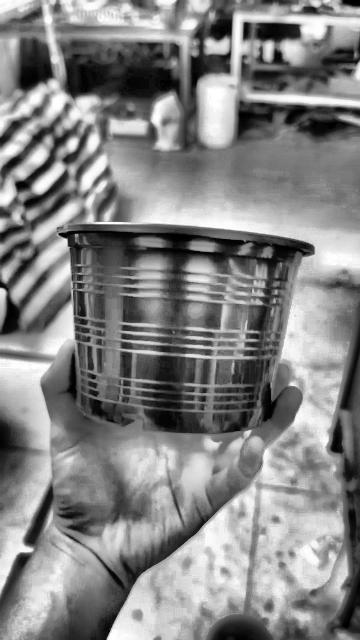pot: (57, 223, 313, 434)
